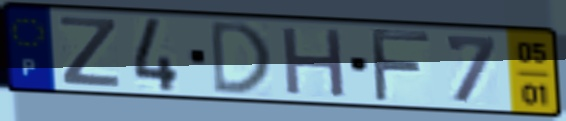4: (130, 15, 183, 95)
7: (443, 31, 501, 107)
D: (208, 18, 274, 97)
F: (367, 25, 434, 105)
H: (278, 24, 349, 100)
Z: (57, 13, 122, 89)
